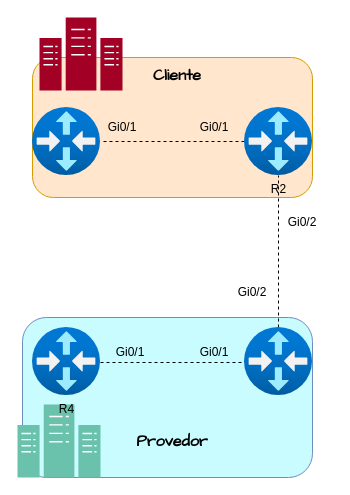
This 350x495 diagram has some shape labels left out. The box of each missing label's shape, as (x1, y1, x2, y2) in pixels:
R1: (32, 107, 100, 175)
R3: (244, 327, 312, 395)
